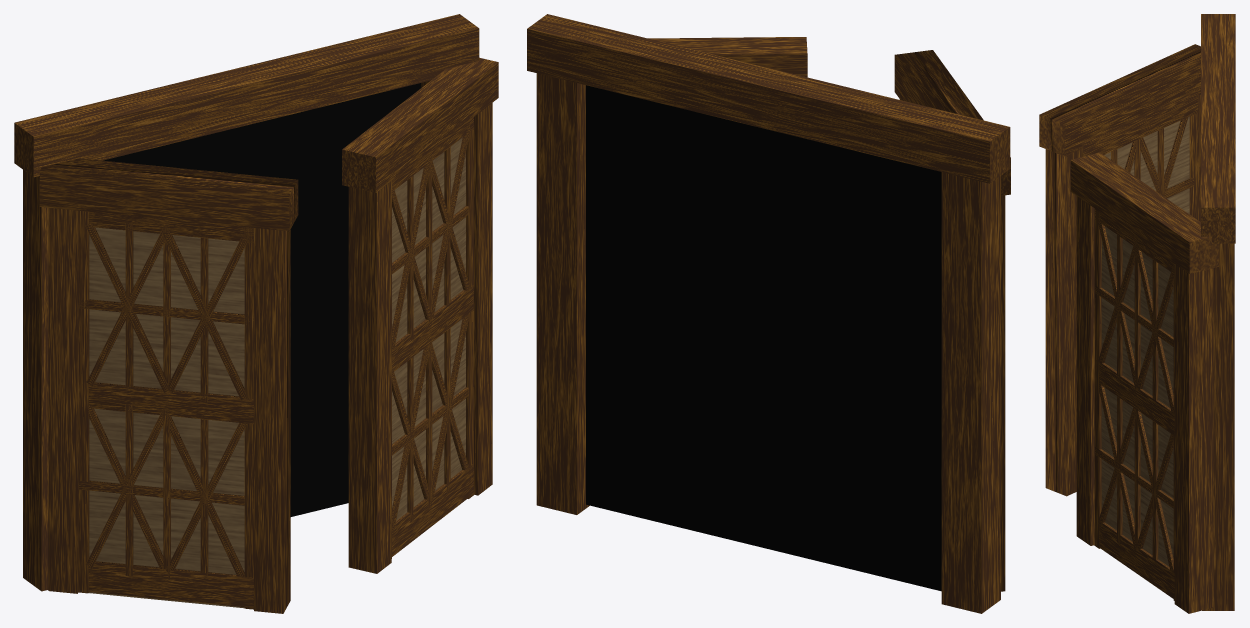
The model's file is Door Double Open.fbx.
3 views of the same model, side by side, from view 1: azimuth 30°, elevation 25°; view 2: azimuth 150°, elevation 25°; view 3: azimuth 270°, elevation 25° (orthographic). The views are drawn at different scales.
Visible parts, largest first — view 1: Cube.011, Plane, Cube.015; view 2: Plane, Cube.011, Cube.015; view 3: Cube.015, Cube.011, Plane.
Boxes of the visible parts, x1,y1,x2,y2 form: Cube.011: [39, 158, 298, 613]; Plane: [14, 14, 479, 591]; Cube.015: [342, 57, 498, 573]; Plane: [527, 14, 1010, 613]; Cube.011: [894, 50, 1010, 591]; Cube.015: [648, 37, 807, 77]; Cube.015: [1070, 152, 1218, 613]; Cube.011: [1039, 44, 1200, 496]; Plane: [1201, 14, 1235, 610].
Size of the model in its own units: 152 by 365 by 348.
